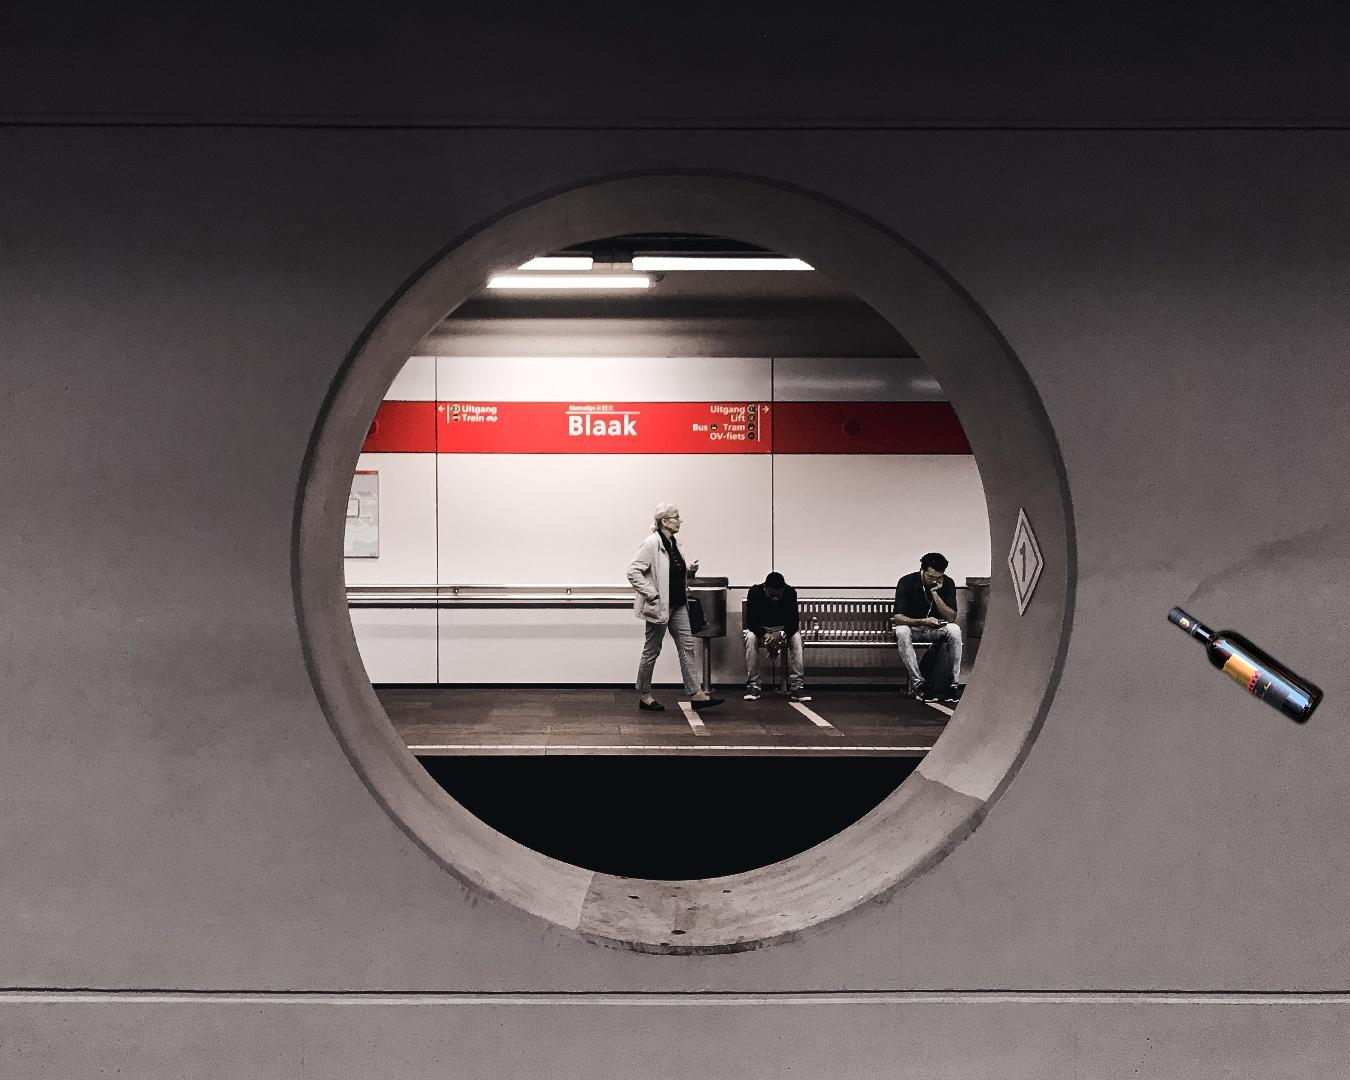glass: (1034, 356, 1327, 730)
